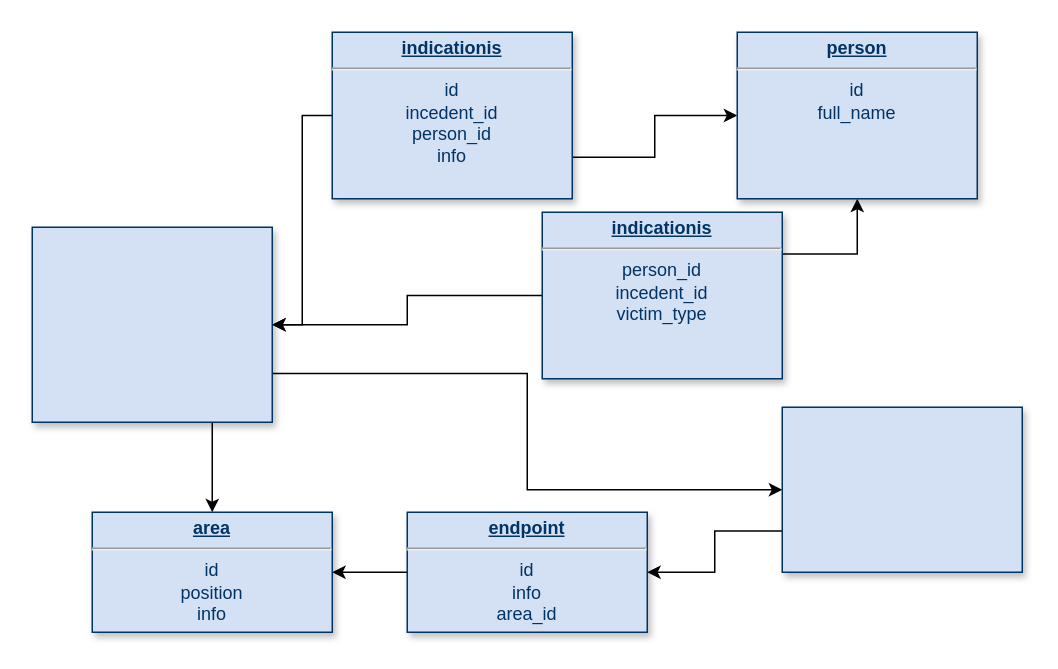
Image size: 1058x669. Some labels were removed from this diagram. The shapes that lost their labels are listed below. From the top down, each one's centre as x and y in pixels, then its label:
At (153,326): "incedent id incedent_type report_id incedent_time area_id info".
At (903,491): "report id from_id to_id arrive_date content".
